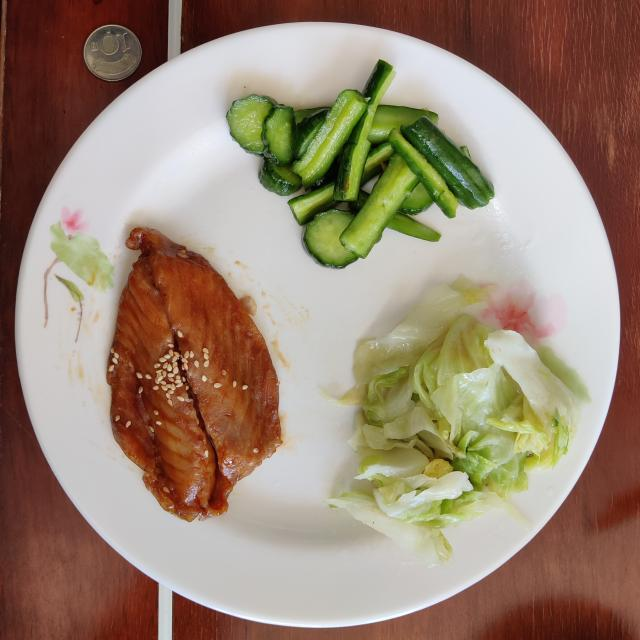Kabayaki sea bream fillet: (108, 228, 281, 521)
cabbage: (328, 275, 581, 566)
coin: (84, 25, 141, 81)
cucumber: (228, 60, 494, 269)
